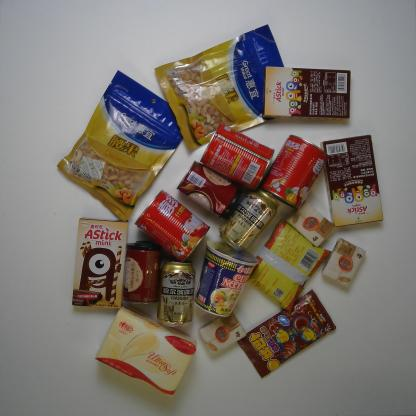Alcohol: (217, 189, 281, 256), (151, 256, 198, 329)
Candy: (235, 289, 339, 381)
Canned Food: (133, 188, 216, 265), (258, 131, 330, 210), (196, 117, 277, 185), (171, 160, 242, 220), (122, 239, 164, 308)
Dessert: (320, 135, 388, 230), (258, 62, 356, 127), (70, 213, 130, 314)
Dried Fruit: (55, 66, 189, 225), (151, 22, 290, 154)
Instant Noodles: (192, 239, 260, 321)
Seasoner: (245, 218, 334, 312)
Tissue: (93, 302, 199, 397), (193, 312, 251, 360), (318, 235, 367, 290), (285, 199, 338, 246)
